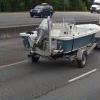Boat: (19, 16, 99, 68)
